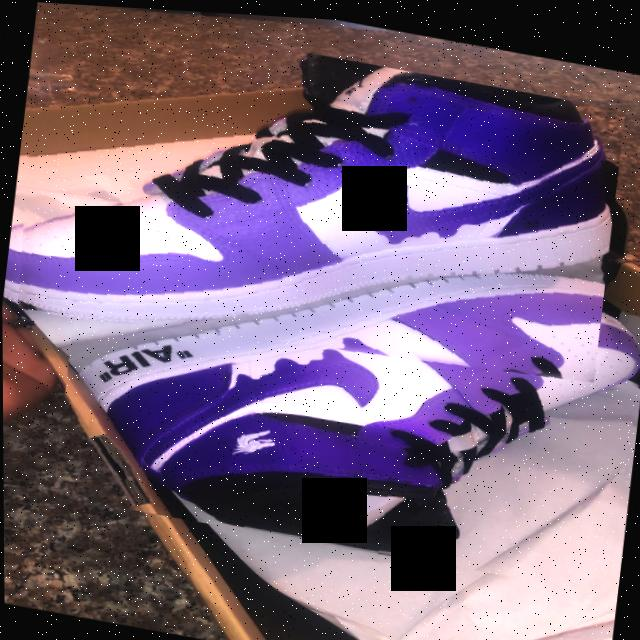shoe: (0, 1, 626, 406), (50, 212, 640, 592)
